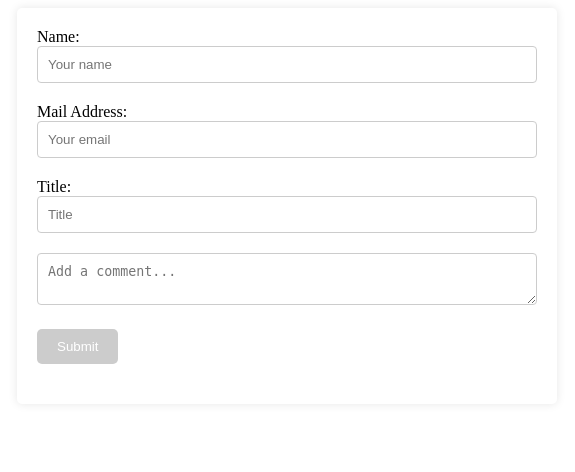
Scenario: draft survives rejected until persistence
Type "Reader" into the field labelled "Name:" at point(287, 64), box x1=37 y1=46 x2=537 y2=83
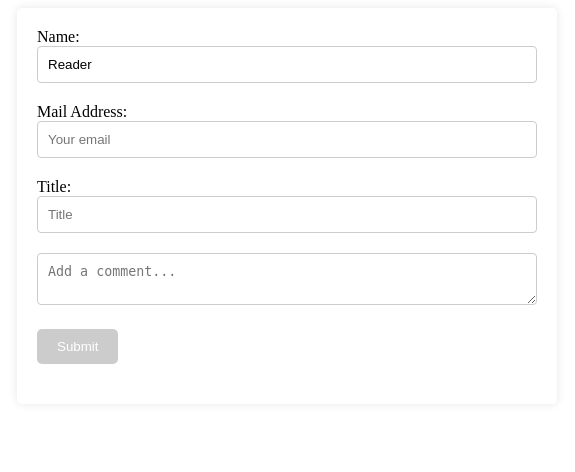
Type "Keep this draft" into the text box with placeholder "Add a comment..." at point(287, 279), box x1=37 y1=253 x2=537 y2=305
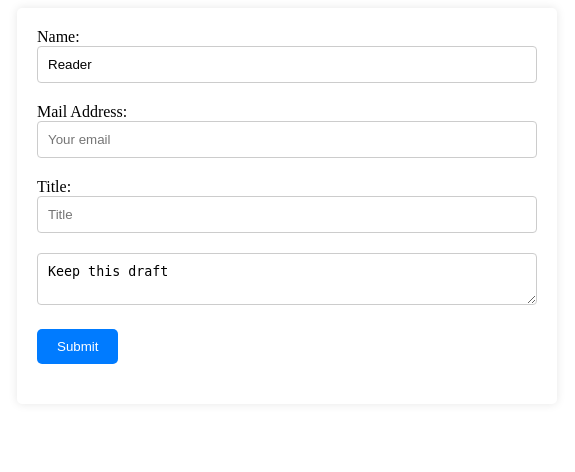
Click the button "Submit" at point(78, 346), box x1=37 y1=329 x2=118 y2=364
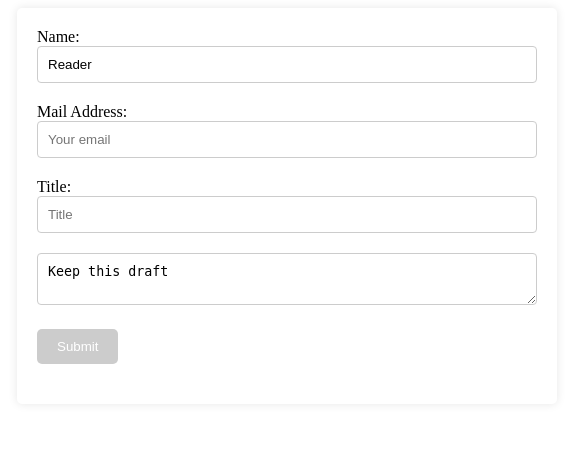
expect the button "Submit" is disabled: met
Click the button "Submit" at point(78, 346), box x1=37 y1=329 x2=118 y2=364
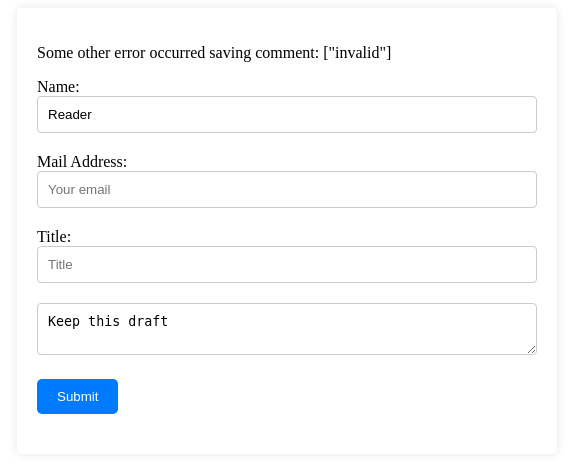
expect the message "Some other error occurred saving comment: [\"invalid\"]" is shown: met, box x1=37 y1=44 x2=391 y2=61
